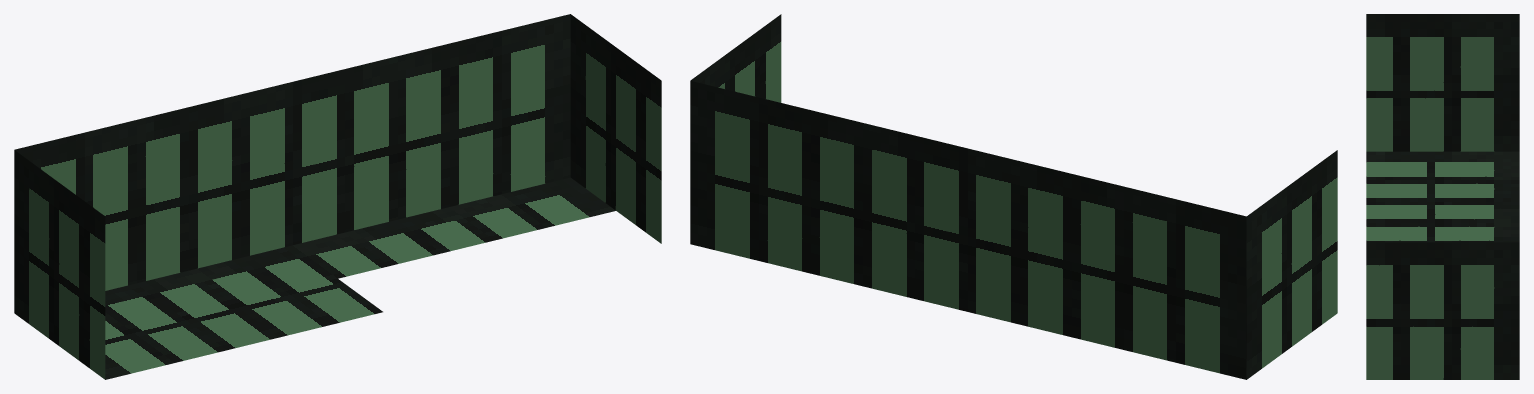
The picture shows the model from 3 angles, left to right: view 1: azimuth 30°, elevation 25°; view 2: azimuth 150°, elevation 25°; view 3: azimuth 270°, elevation 25°; orthographic projection. The views are drawn at different scales.
Parts seen in each view (by area): view 1: balcony-ladder-top; view 2: balcony-ladder-top; view 3: balcony-ladder-top.
Boxes of the visible parts, x1,y1,x2,y2 form: balcony-ladder-top: [14, 14, 661, 379]; balcony-ladder-top: [690, 14, 1337, 379]; balcony-ladder-top: [1366, 14, 1519, 379].
Size of the model in its own units: 1 by 0.2808 by 0.2837.
1 material, 1 textured.
